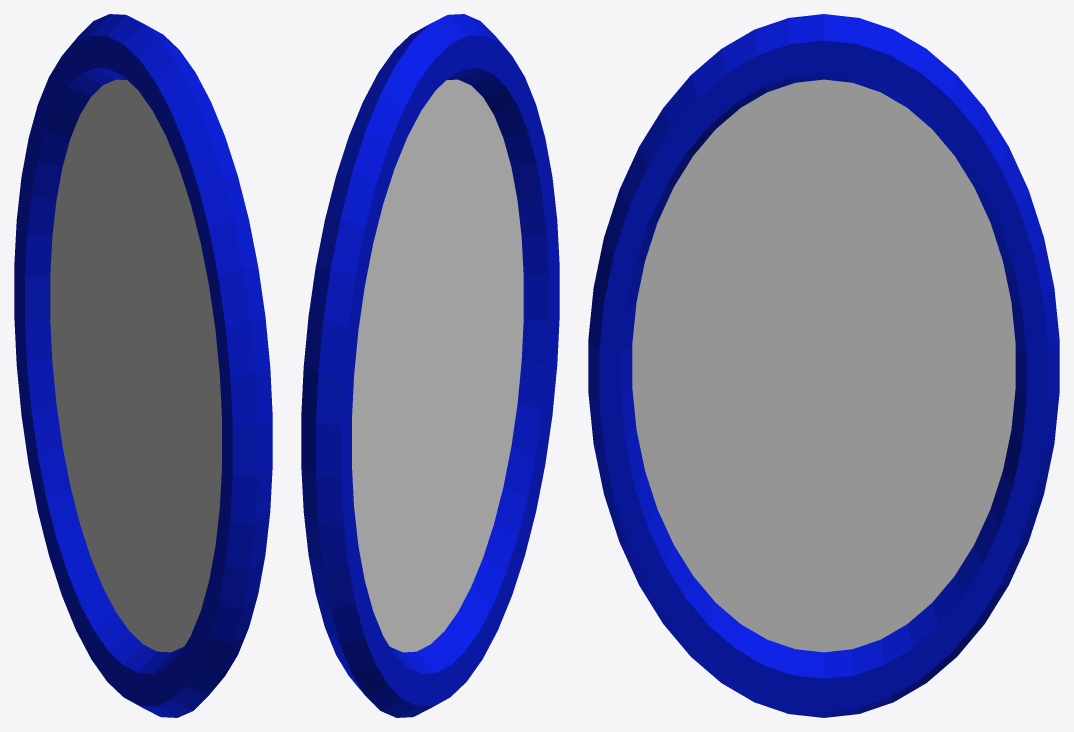
The model's file is ポータル.fbx.
3 renders of one model, left to right at view 1: azimuth 30°, elevation 25°; view 2: azimuth 150°, elevation 25°; view 3: azimuth 270°, elevation 25°, orthographic. The views are drawn at different scales.
Parts seen in each view (by area): view 1: トーラス; view 2: トーラス; view 3: トーラス.
Part boxes in pixels (bbox=[...]): トーラス: bbox=[14, 14, 272, 717]; トーラス: bbox=[301, 14, 559, 717]; トーラス: bbox=[588, 14, 1059, 717].
Size of the model in its own units: 0.2598 by 4.26 by 2.58.
